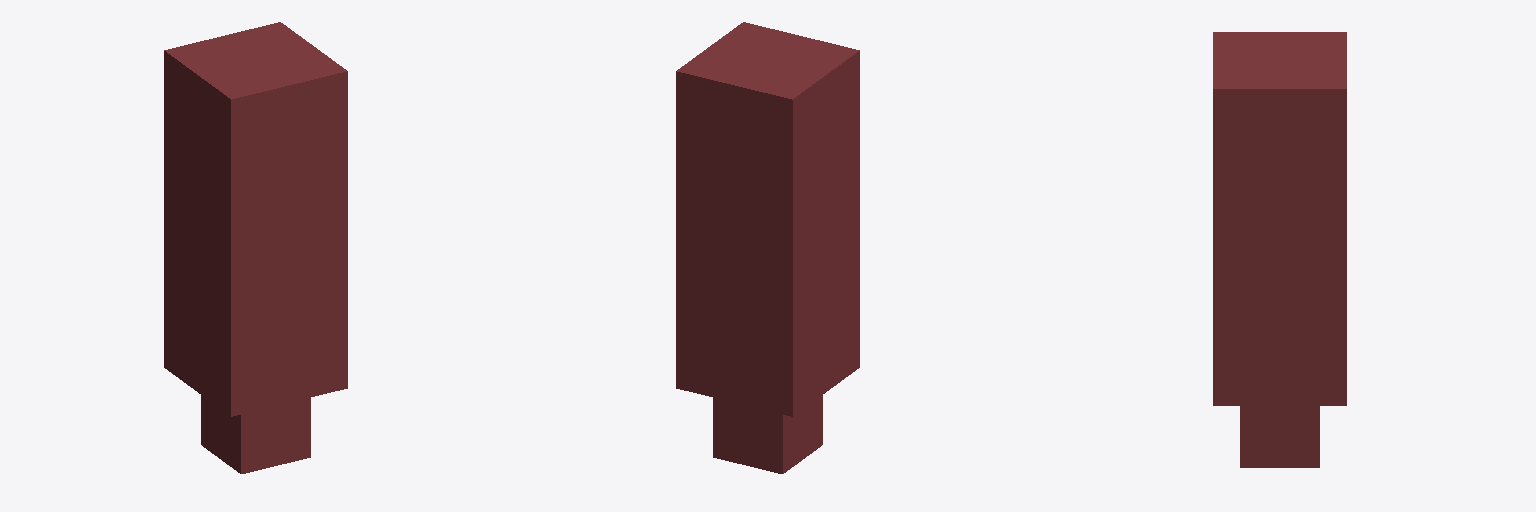
3 views of the same model, side by side, from view 1: azimuth 30°, elevation 25°; view 2: azimuth 150°, elevation 25°; view 3: azimuth 270°, elevation 25° (orthographic).
Parts seen in each view (by area): view 1: 4BlocksTree; view 2: 4BlocksTree; view 3: 4BlocksTree.
Boxes of the visible parts, x1=… form: 4BlocksTree: x1=164, y1=22, x2=347, y2=473; 4BlocksTree: x1=676, y1=22, x2=859, y2=473; 4BlocksTree: x1=1213, y1=32, x2=1346, y2=467.
Size of the model in its own units: 0.5 by 1.6 by 0.5.
1 materials, 1 textured.